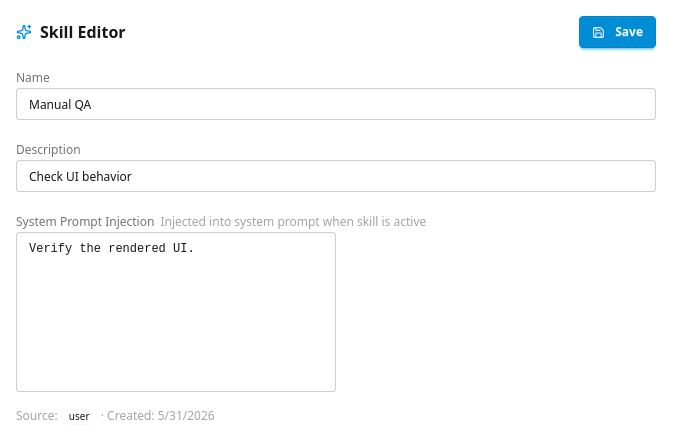
Test case: SkillEditorPanel › loads a skill and saves edited fields
Replace the text in the field with test id "skill-name-input" with "Manual QA Pro". click: (336, 104)
box: [16,88,656,120]
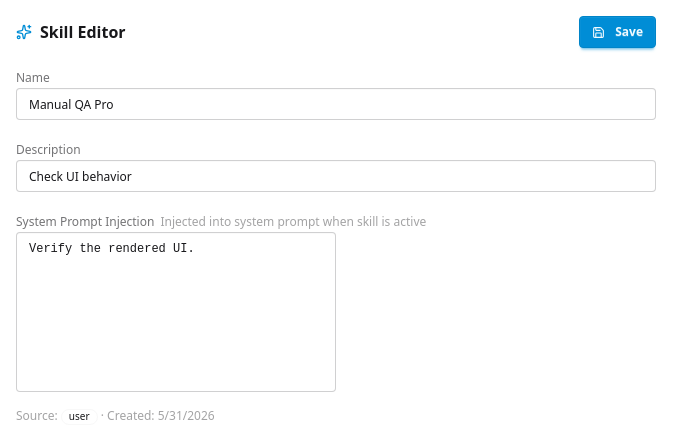
Replace the text in the field showing "Check UI behavior" below "Description" with "Check the full user flow". click: (336, 176)
box: [16,160,656,192]
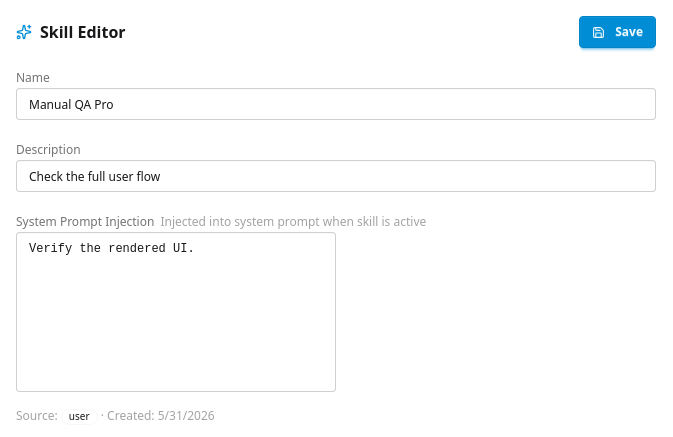
Replace the text in the text box showing "Verify the rendered UI." with "Verify FE and BE evidence.". click: (176, 312)
box: [16,232,336,392]
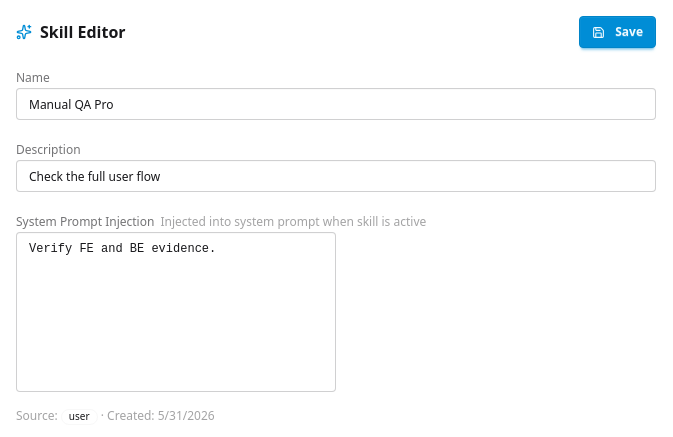
Click the button with test id "skill-save-btn". click: (618, 32)
box: [579,16,656,48]
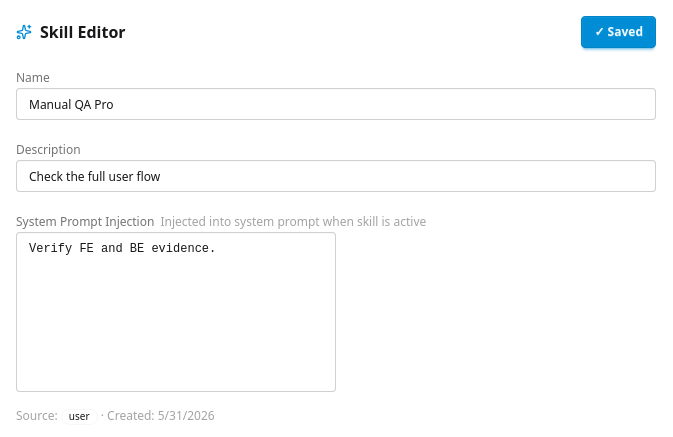
Now the button "✓ Saved" is shown, box [581,16,656,48]
